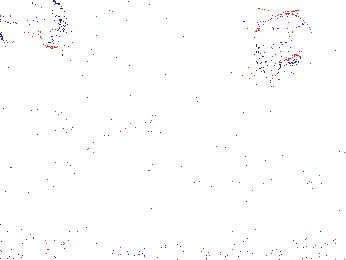moon jellyfish: (96, 3, 178, 72), (76, 92, 158, 161), (234, 21, 291, 89), (253, 13, 316, 65), (1, 1, 67, 41)
